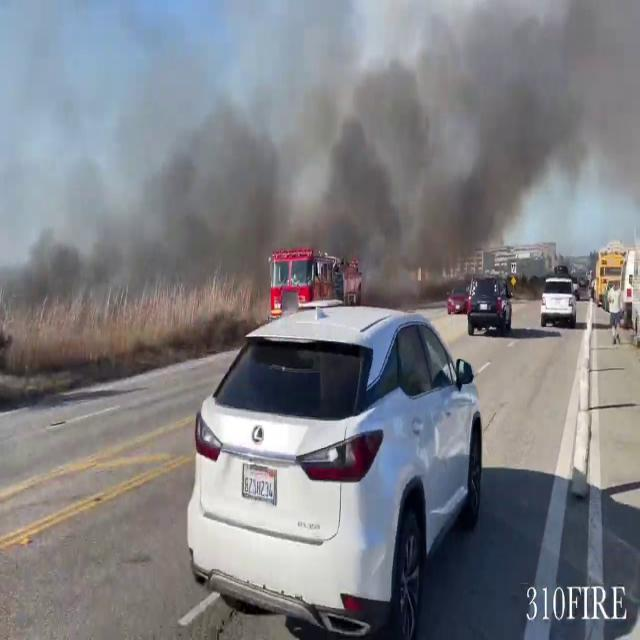Smoke: (1, 4, 298, 320), (304, 0, 640, 270)
